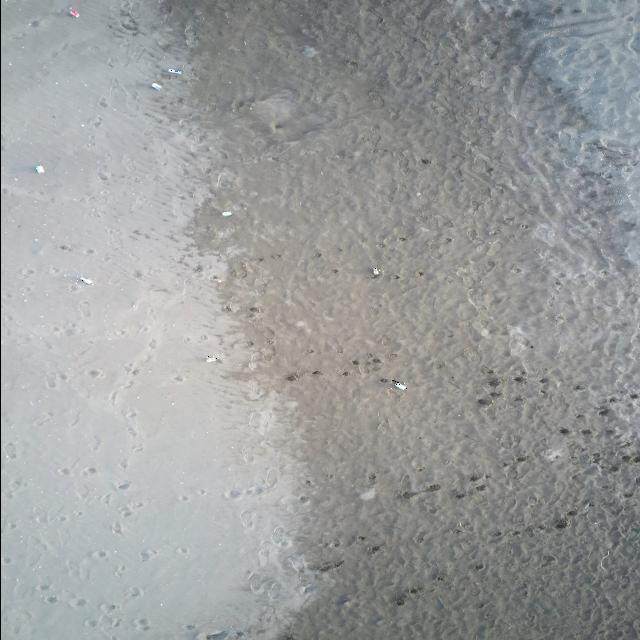Garbage: (392, 379, 405, 390), (304, 45, 316, 55), (166, 67, 181, 74), (79, 276, 92, 284), (68, 7, 79, 16), (206, 355, 220, 362), (34, 164, 44, 172), (372, 266, 380, 276), (151, 81, 160, 89), (220, 211, 232, 216)
